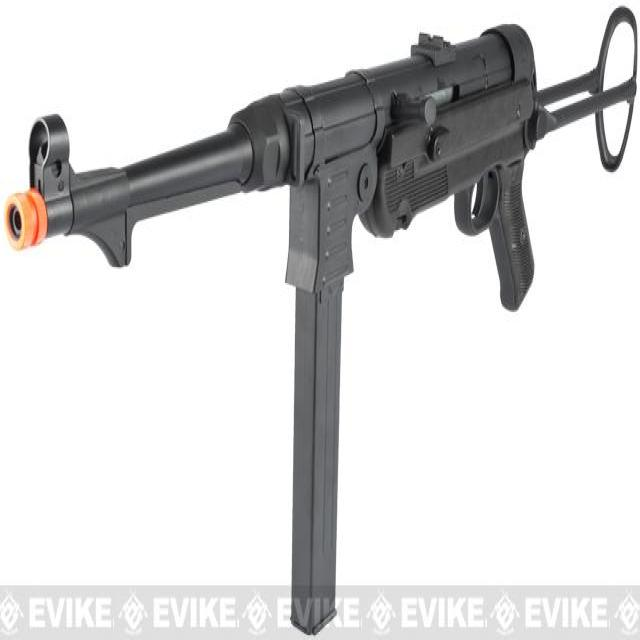SMG: (0, 6, 640, 640)
